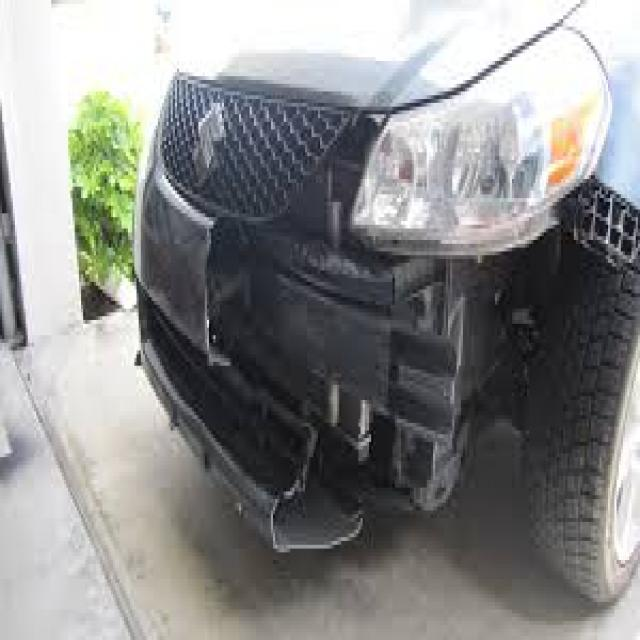moderate: (207, 172, 496, 536)
